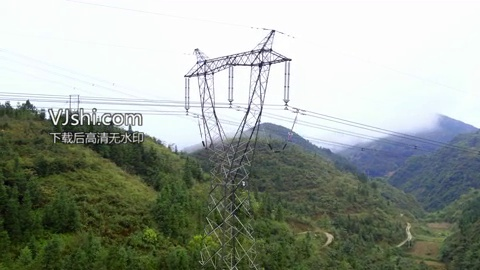tower_body: (173, 26, 295, 270)
tower_foot: (197, 223, 265, 270)
tower_head: (175, 29, 291, 188)
